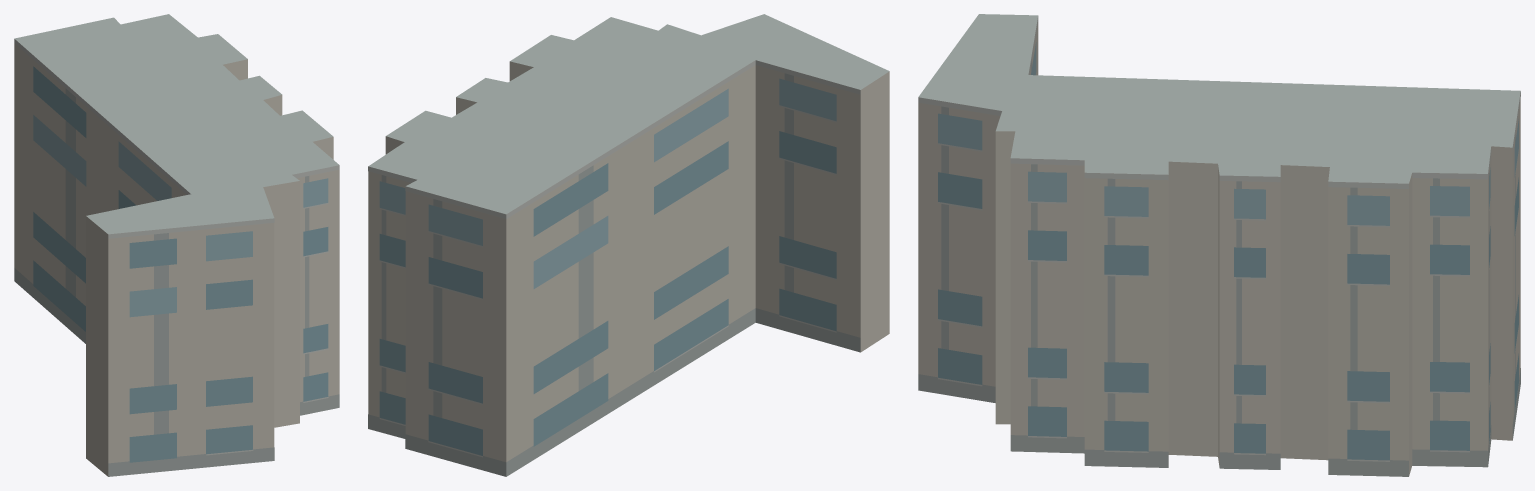
The model's file is survey-upis-32819823.glb.
The picture shows the model from 3 angles, left to right: view 1: azimuth 30°, elevation 25°; view 2: azimuth 150°, elevation 25°; view 3: azimuth 270°, elevation 25°; orthographic projection. The views are drawn at different scales.
Visible parts, largest first — view 1: survey-upis-32819823.tmp; view 2: survey-upis-32819823.tmp; view 3: survey-upis-32819823.tmp.
Boxes of the visible parts, x1,y1,x2,y2 form: survey-upis-32819823.tmp: (14,14,339,476); survey-upis-32819823.tmp: (368,14,889,476); survey-upis-32819823.tmp: (918,14,1520,476).
Bounding box in the file's own units: 16.49 × 13.27 × 24.73.
